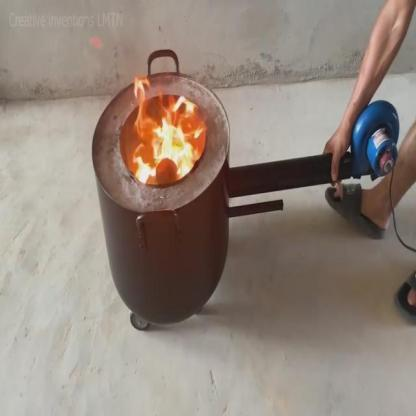Fire: (127, 80, 206, 182)
